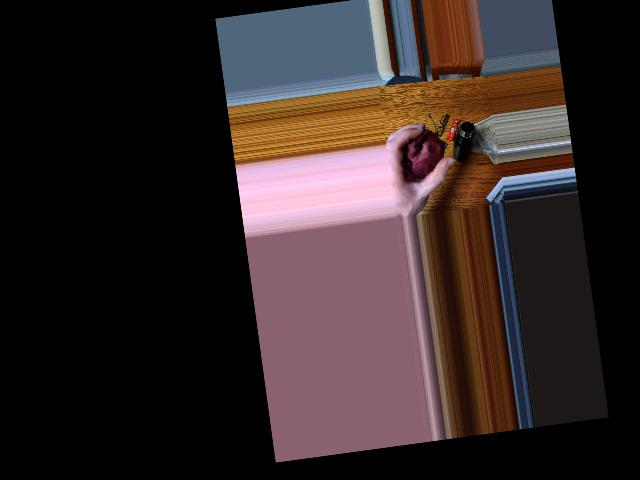onion: (401, 136, 439, 175)
